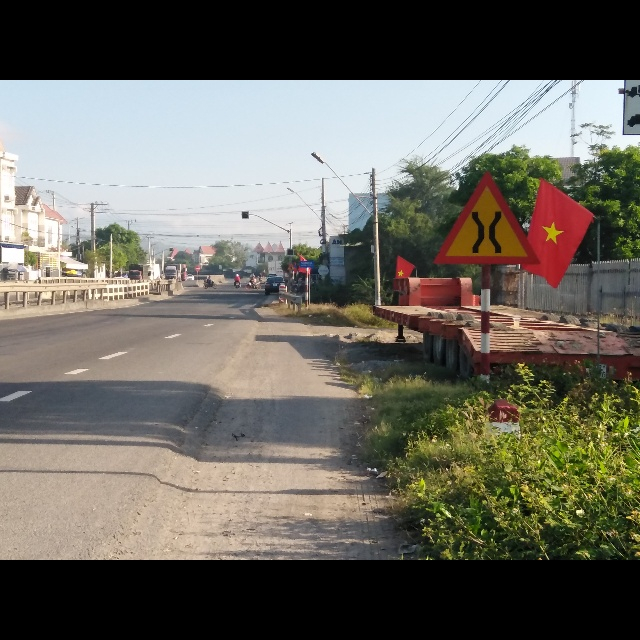Cầu hẹp: (431, 169, 537, 264)
